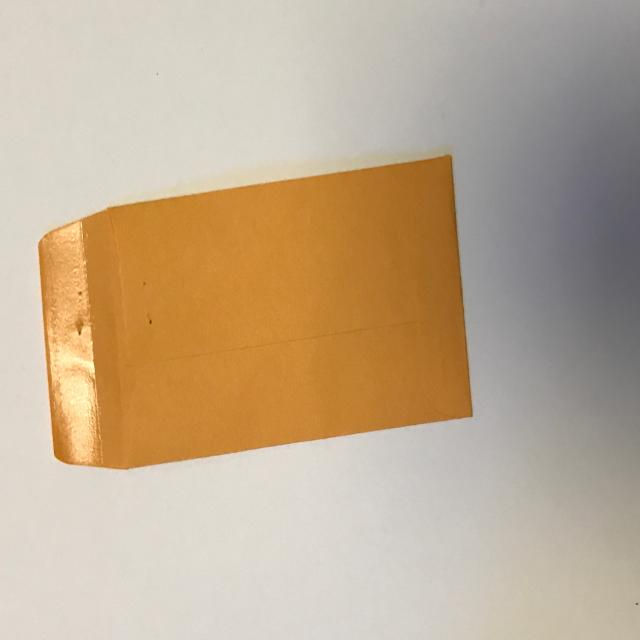paper: (29, 141, 480, 505)
